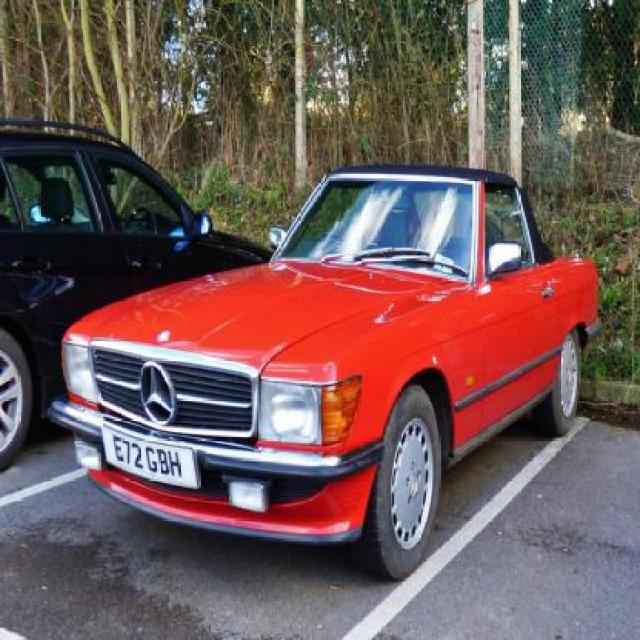License-Plates: (99, 423, 208, 493)
